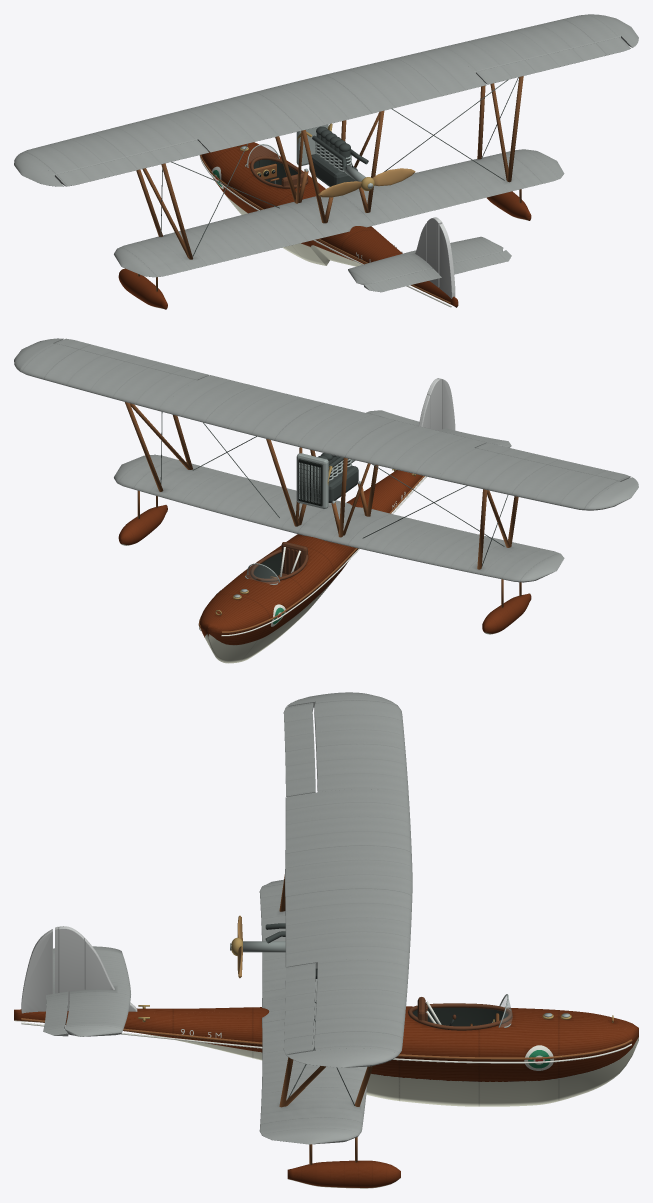
The picture shows the model from 3 angles, top to bottom: view 1: azimuth 30°, elevation 25°; view 2: azimuth 150°, elevation 25°; view 3: azimuth 270°, elevation 25°; orthographic projection. The views are drawn at different scales.
Parts seen in each view (by area): view 1: AircraftBody, Upper aileron.001, Upper aileron, Elevator surface, M5 rudder, Pusher wooden blade.001, Pusher wooden blade; view 2: AircraftBody, Upper aileron.001, Upper aileron, Elevator surface, M5 rudder; view 3: AircraftBody, Upper aileron, Upper aileron.001, M5 rudder, Elevator surface.
Boxes of the visible parts, bbox=[...] form: AircraftBody: bbox=[14, 14, 638, 309]; Upper aileron.001: bbox=[476, 37, 630, 84]; Upper aileron: bbox=[55, 140, 208, 186]; Elevator surface: bbox=[364, 250, 511, 292]; M5 rudder: bbox=[439, 223, 455, 298]; Pusher wooden blade.001: bbox=[372, 168, 415, 186]; Pusher wooden blade: bbox=[318, 181, 361, 197]; AircraftBody: bbox=[14, 338, 638, 663]; Upper aileron.001: bbox=[55, 338, 208, 380]; Upper aileron: bbox=[476, 443, 630, 481]; Elevator surface: bbox=[366, 410, 511, 447]; M5 rudder: bbox=[442, 379, 455, 430]; AircraftBody: bbox=[14, 692, 638, 1188]; Upper aileron: bbox=[283, 703, 315, 796]; Upper aileron.001: bbox=[283, 963, 315, 1054]; M5 rudder: bbox=[21, 929, 52, 1013]; Elevator surface: bbox=[43, 948, 68, 1036].
Size of the model in its own units: 11.9 by 3.47 by 8.4.
15 materials, 2 textured.
